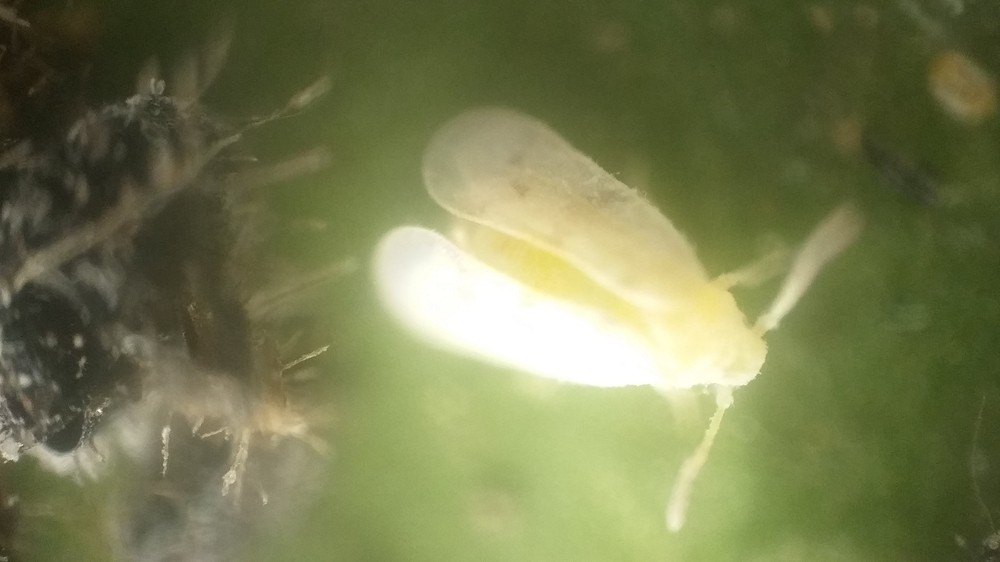Mosca Blanca: (365, 96, 882, 543)
